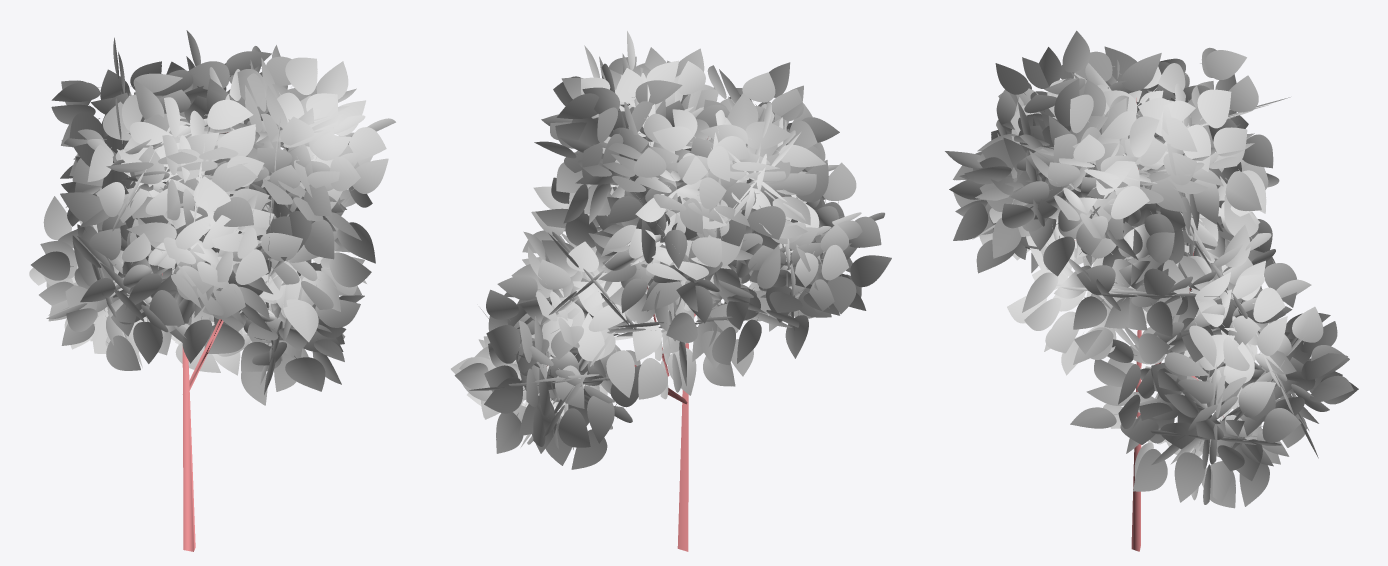
The model's file is Drzewko2_LOD2.fbx.
3 renders of one model, left to right at view 1: azimuth 30°, elevation 25°; view 2: azimuth 150°, elevation 25°; view 3: azimuth 270°, elevation 25°, orthographic. The views are drawn at different scales.
Parts seen in each view (by area): view 1: Leaf.008, tree.003; view 2: Leaf.008, tree.003; view 3: Leaf.008, tree.003.
Part boxes in pixels (left/top/right/bottom): Leaf.008: left=29, top=30, right=395, bottom=405; tree.003: left=162, top=132, right=228, bottom=551; Leaf.008: left=451, top=31, right=891, bottom=469; tree.003: left=546, top=138, right=707, bottom=551; Leaf.008: left=945, top=30, right=1358, bottom=508; tree.003: left=1075, top=98, right=1223, bottom=551.
Bounding box in the file's own units: 590 × 609 × 752.
